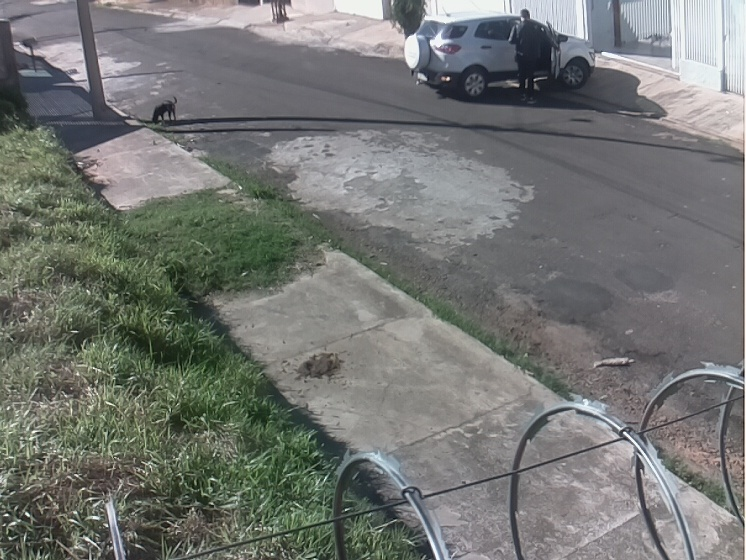person: (507, 8, 541, 106)
